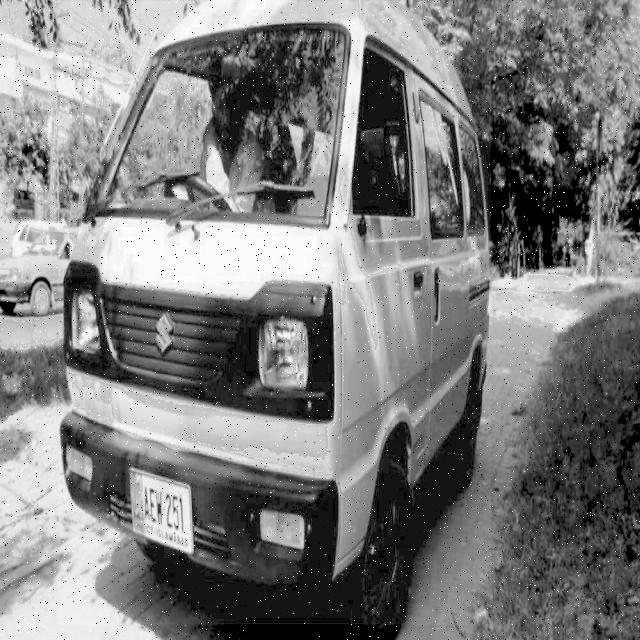LCV: (58, 1, 492, 626)
